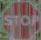Stop: (1, 7, 40, 35)
